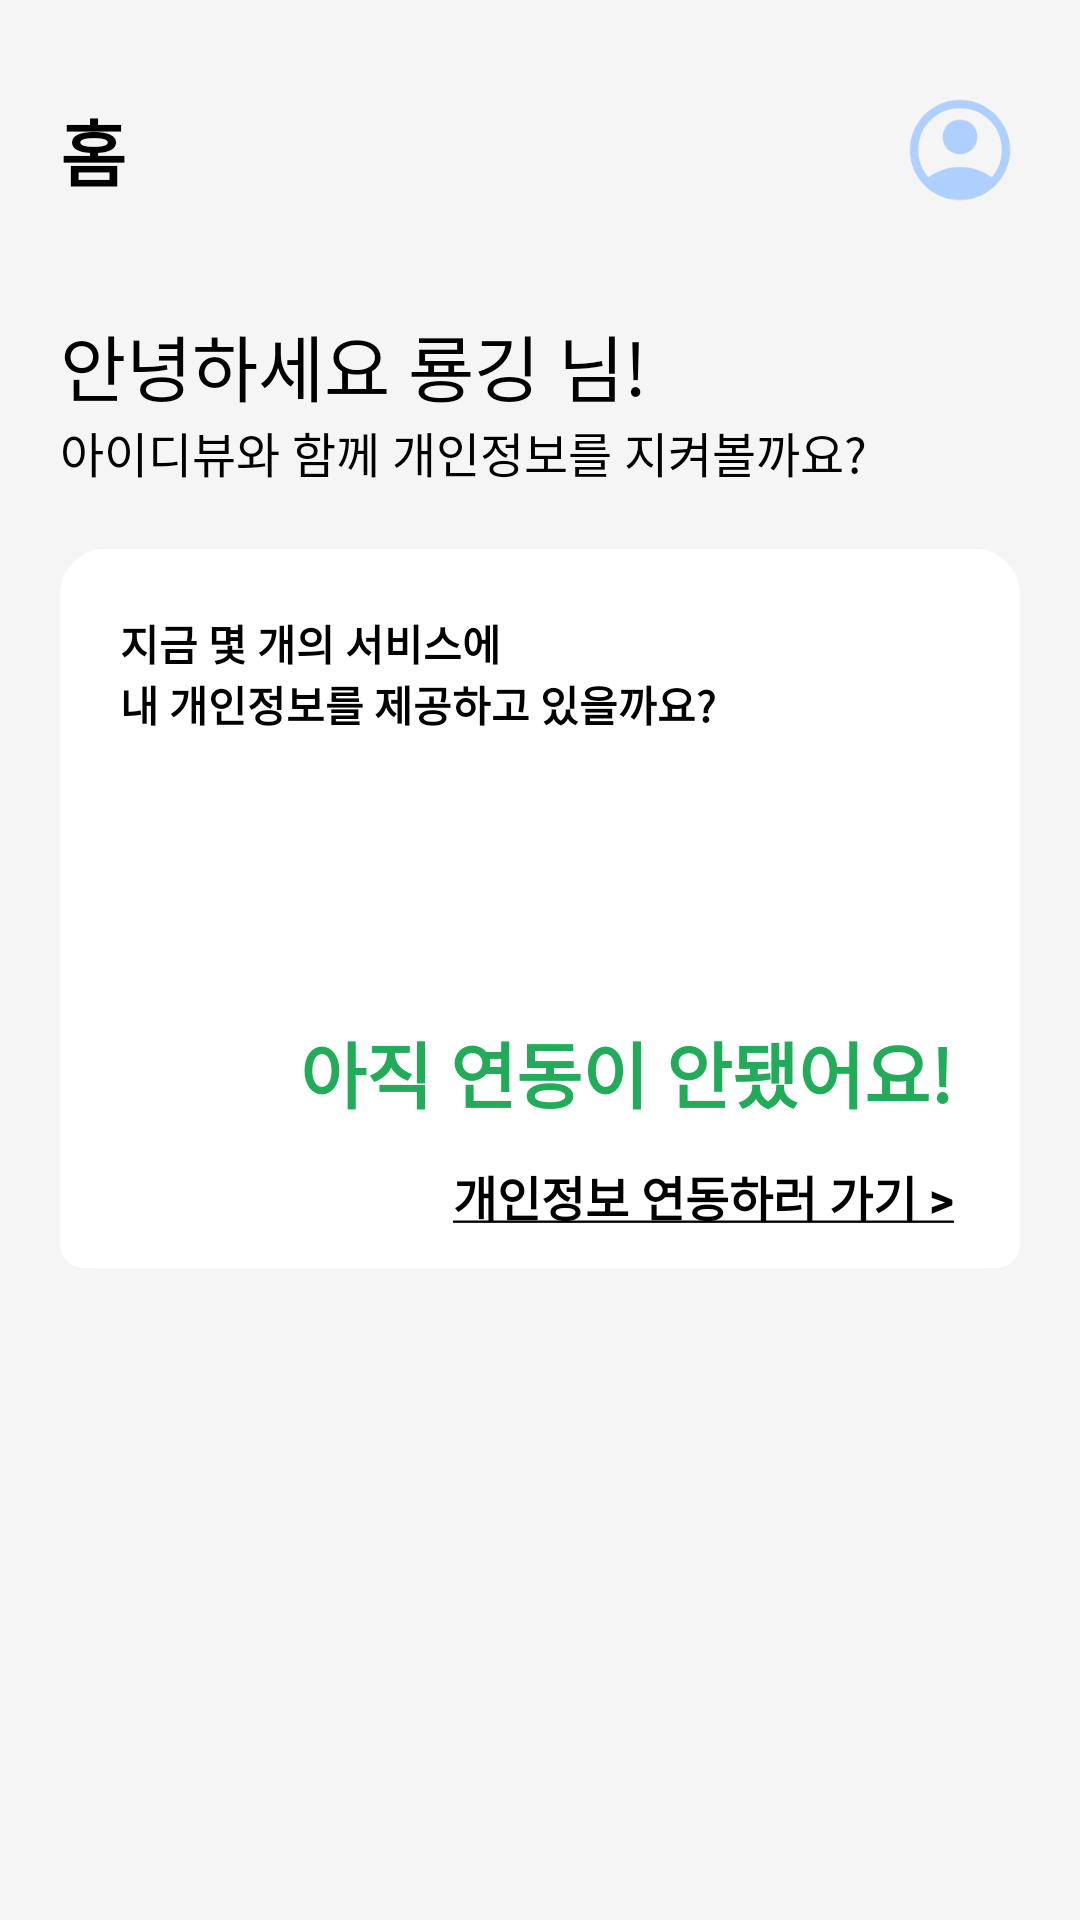

Where icons sit on this 1080x1920 app screen, as Rect(x1, y1, x2, y2):
user: Rect(910, 100, 1010, 200)
